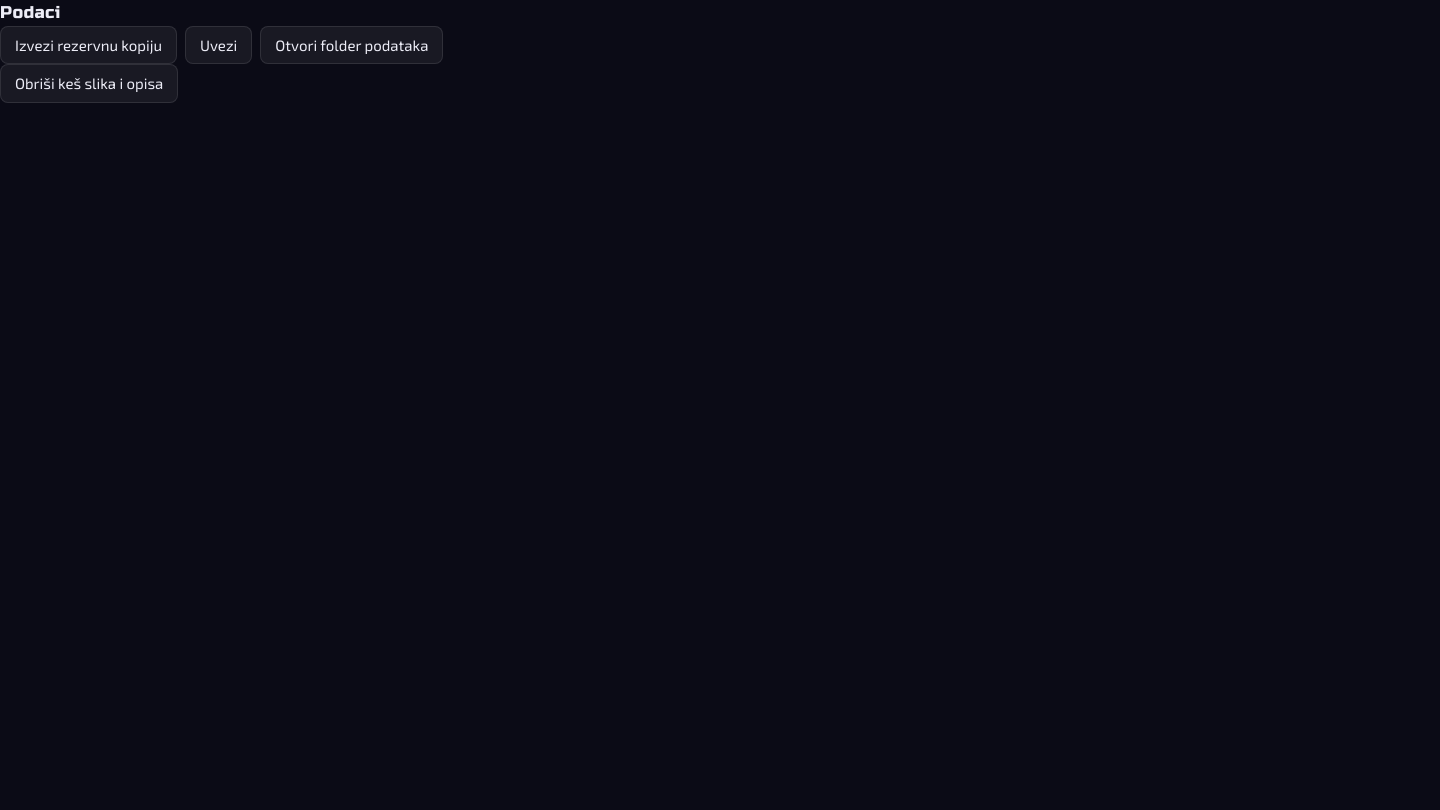
Test: DataSection › cancel closes the modal without applying
Click the button "Uvezi" at (219,45), box [185,26,252,64]
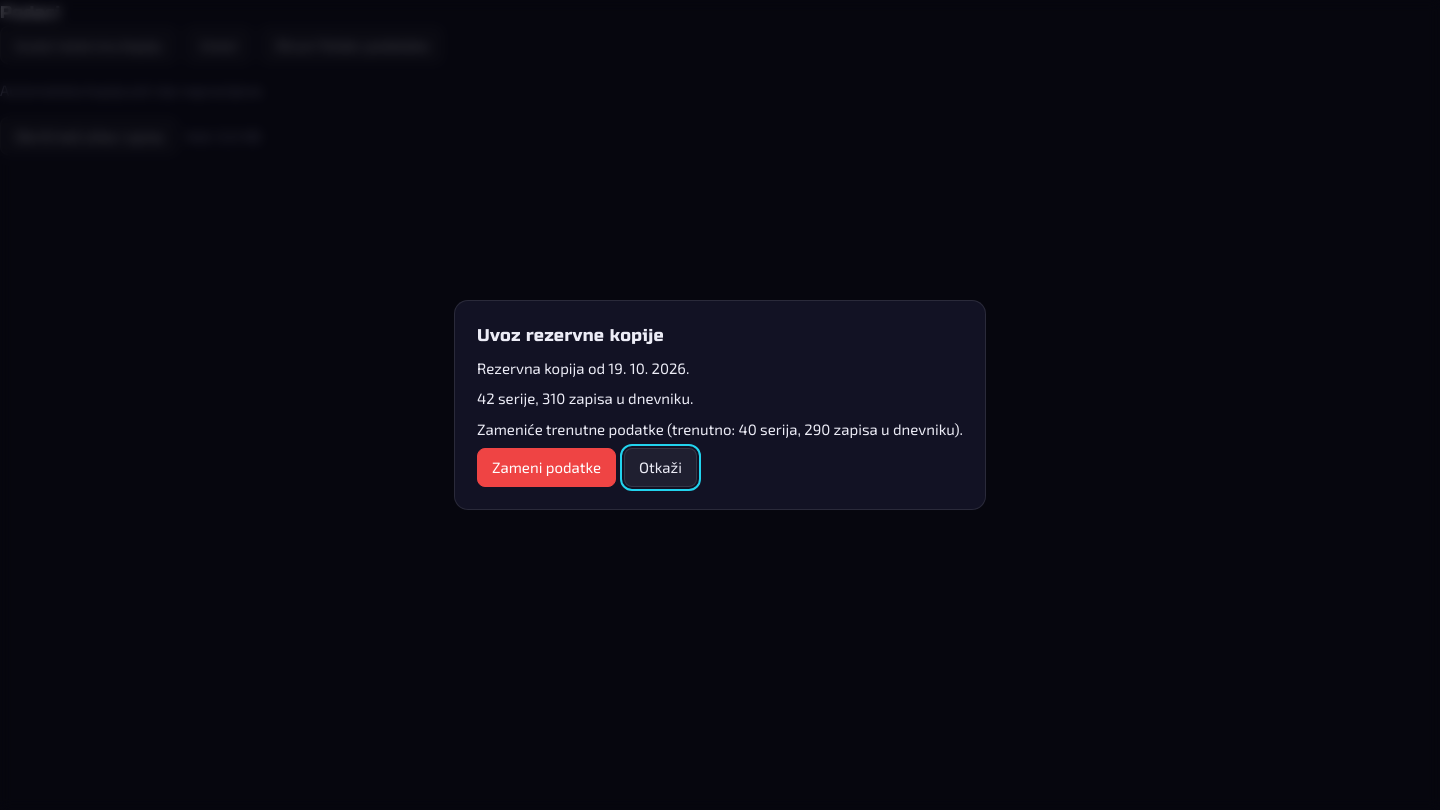
Click the button "Otkaži" at (660,468), box [624,448,697,487]
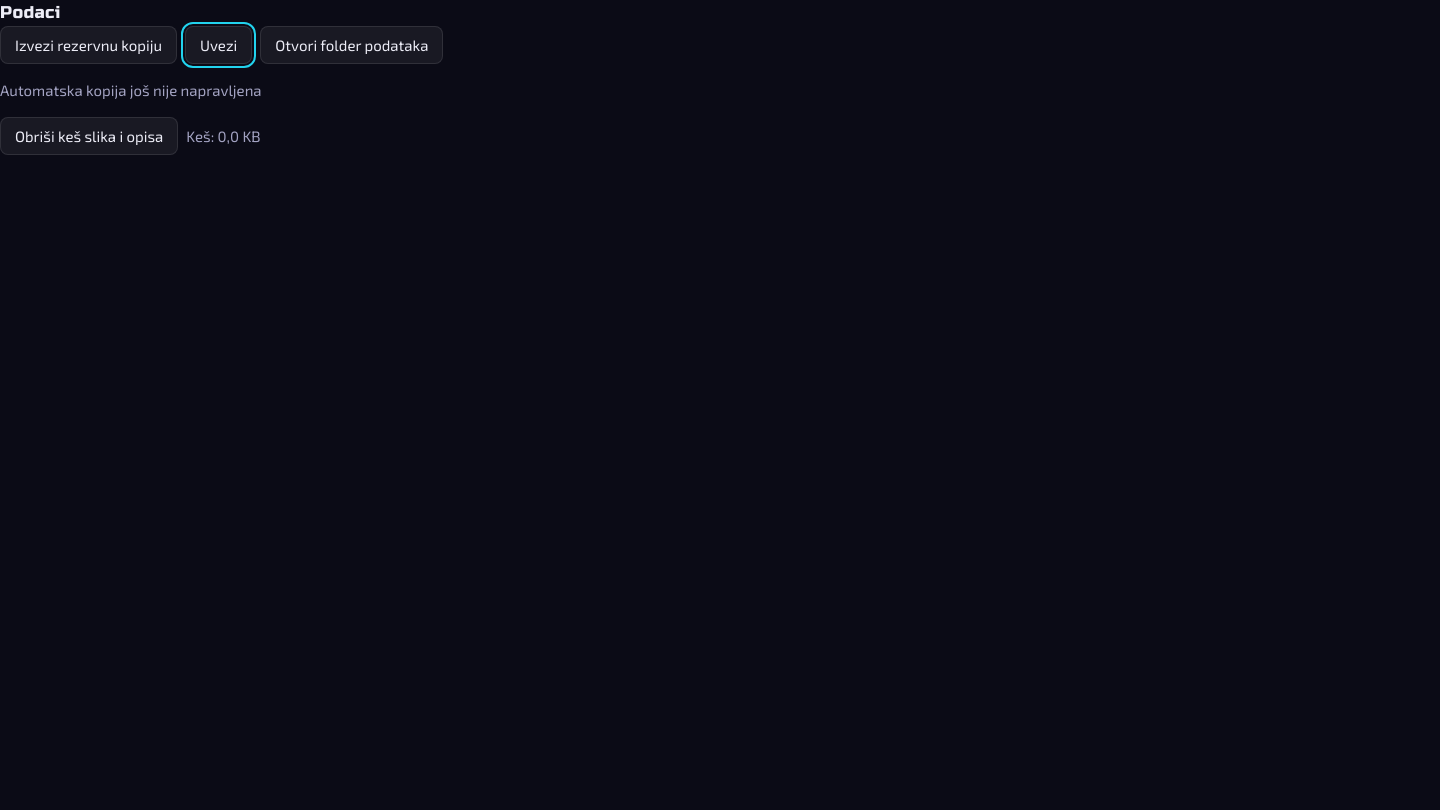
Result: the dialog is gone
